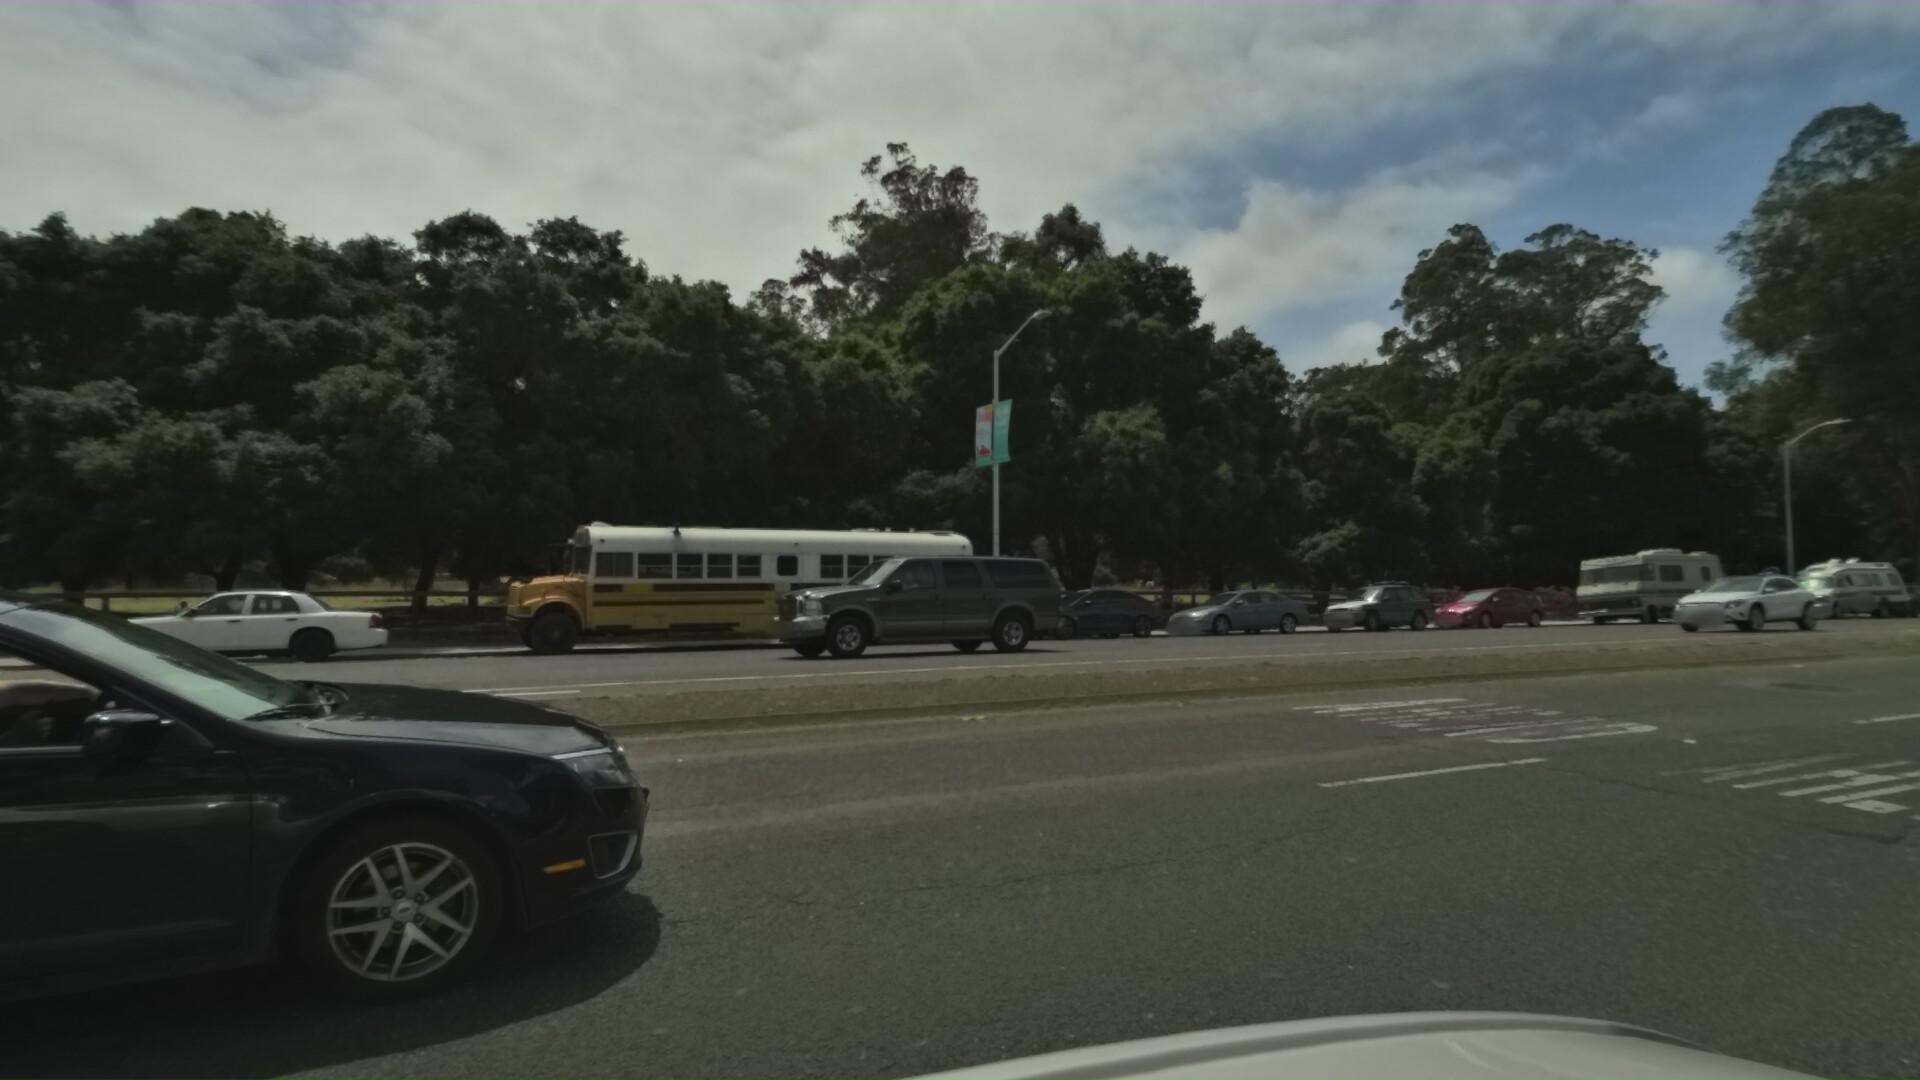bus: (462, 504, 975, 663)
car: (705, 547, 1033, 665), (16, 582, 372, 682), (977, 583, 1160, 646), (1629, 571, 1800, 638), (1139, 582, 1308, 638), (1296, 578, 1433, 632), (1685, 560, 1799, 622), (1404, 583, 1543, 632), (1847, 578, 1920, 618)
other_vehicle: (1549, 539, 1725, 622), (1758, 550, 1902, 618)
